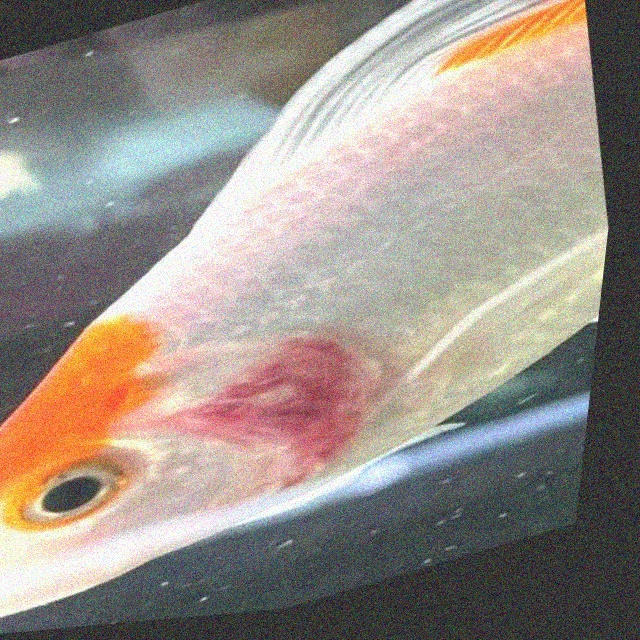Gill Disease: (17, 233, 427, 602)
